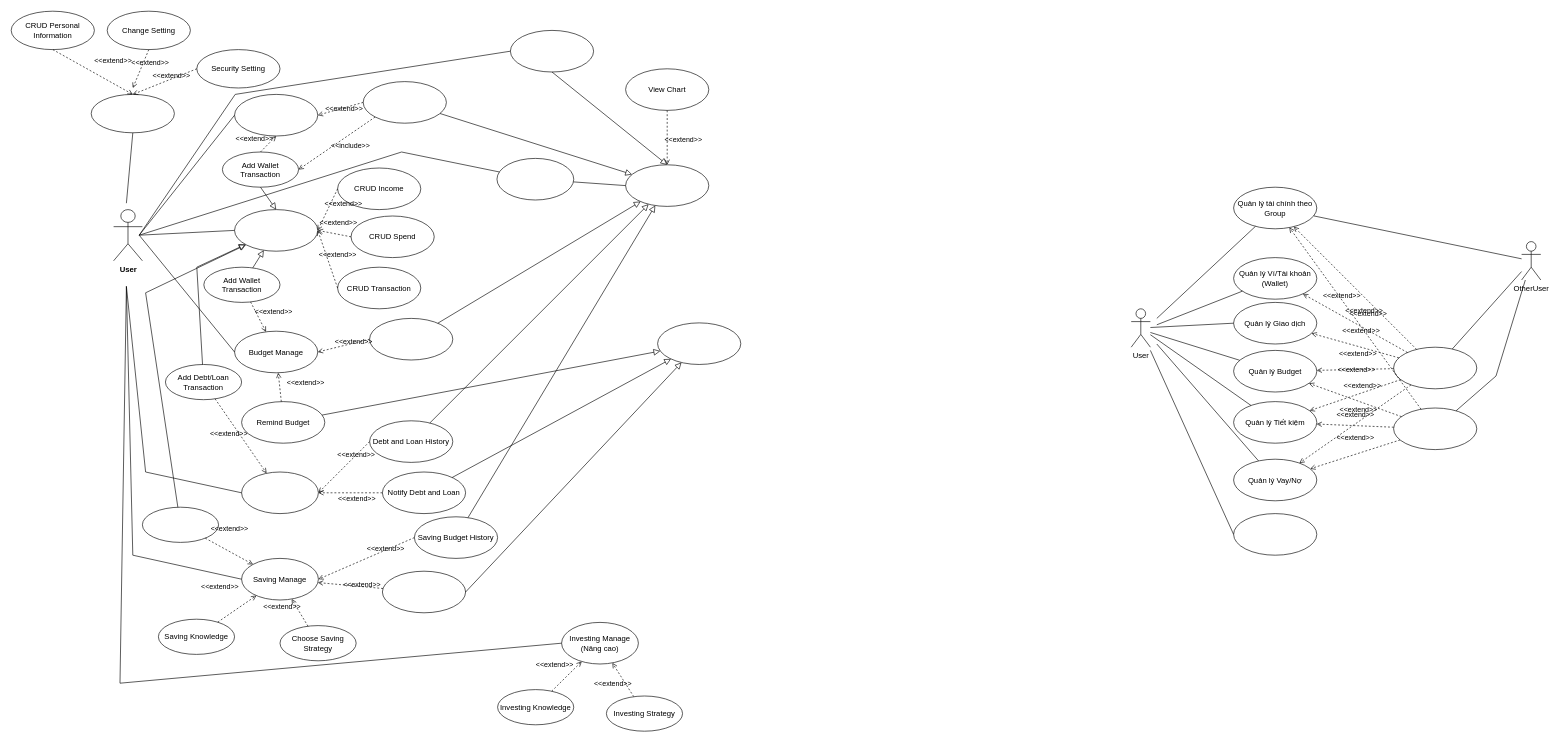
Image size: 1560x742. Some labels were removed from this diagram. Each missing label, with the box of its shape:
Add Saving Budget Transaction: (142, 507, 219, 542)
Biểu đồ và thống kê: (1393, 347, 1477, 389)
Budget History: (369, 318, 453, 360)
Detailed Statistics: (625, 164, 709, 206)
Financial Overview: (510, 30, 594, 72)
Manage Debt and Loan: (241, 471, 318, 514)
Notification: (657, 322, 741, 364)
Quản lý Thông báo: (1393, 407, 1477, 450)
Remind Saving Budget: (382, 571, 466, 613)
Transaction: (234, 209, 318, 251)
Tùy chỉnh tài khoản User: (1233, 513, 1317, 555)
User Account Manage: (91, 94, 174, 133)
Wallet History: (363, 81, 446, 123)
Wallet Manage: (234, 94, 318, 136)
Đề xuất tài chính (Nâng cao): (496, 158, 574, 200)
